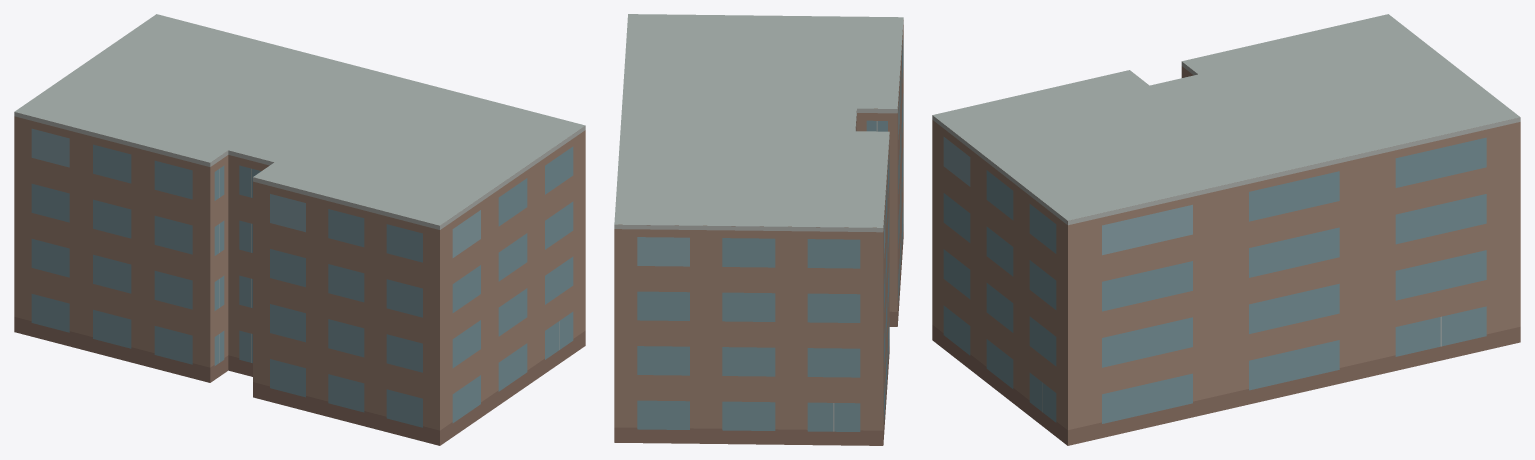
Rendered from residential-e3e292a1-71d1-4881-894f-0bcdbbba835a.glb.
3 renders of one model, left to right at view 1: azimuth 30°, elevation 25°; view 2: azimuth 150°, elevation 25°; view 3: azimuth 270°, elevation 25°, orthographic. The views are drawn at different scales.
Visible parts, largest first — view 1: residential-e3e292a1-71d1-4881-894f-0bcdbbba835a.tmp; view 2: residential-e3e292a1-71d1-4881-894f-0bcdbbba835a.tmp; view 3: residential-e3e292a1-71d1-4881-894f-0bcdbbba835a.tmp.
Part boxes in pixels (x1=…): residential-e3e292a1-71d1-4881-894f-0bcdbbba835a.tmp: x1=14, y1=14, x2=585, y2=445; residential-e3e292a1-71d1-4881-894f-0bcdbbba835a.tmp: x1=614, y1=14, x2=903, y2=445; residential-e3e292a1-71d1-4881-894f-0bcdbbba835a.tmp: x1=932, y1=14, x2=1520, y2=445.
Size of the model in its own units: 24.05 by 12.2 by 28.91.
